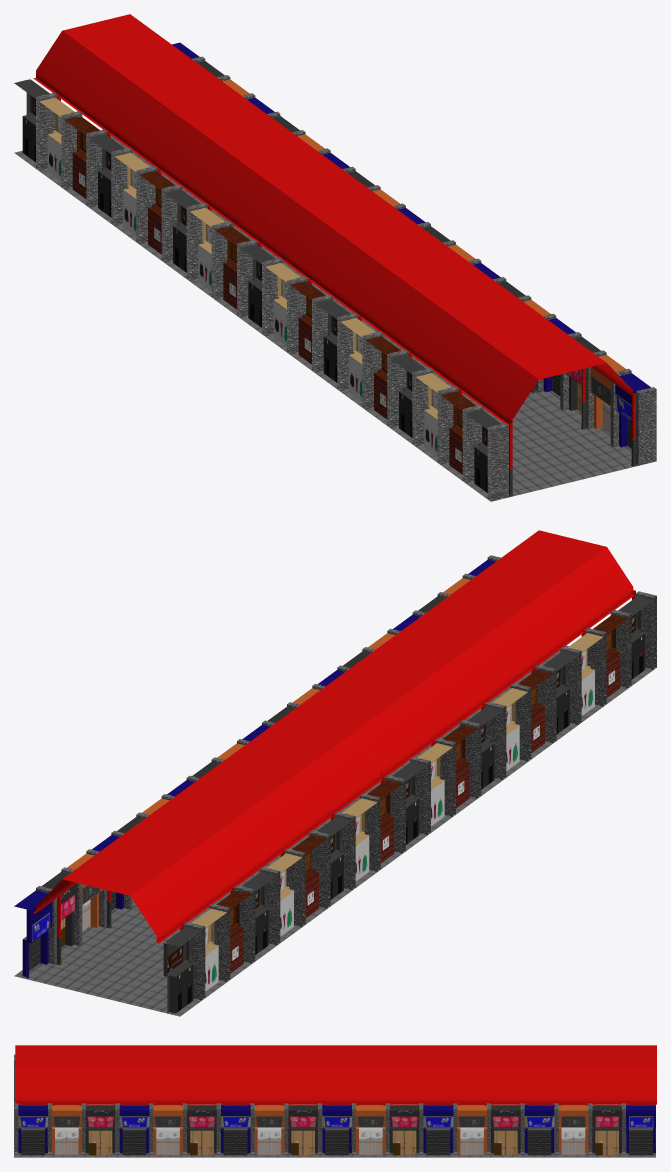
File: conect_9.fbx
The picture shows the model from 3 angles, top to bottom: view 1: azimuth 30°, elevation 25°; view 2: azimuth 150°, elevation 25°; view 3: azimuth 270°, elevation 25°; orthographic projection. The views are drawn at different scales.
Parts seen in each view (by area): view 1: Torii, Ground1, RightPillar36, LeftPillar36, LeftBuilding41, RightBuilding31, RightBuilding20, RightBuilding30, LeftBuilding42, RightPillar35, RightBuilding21, RightBuilding22 (+32 smaller); view 2: Torii, Ground1, RightBuilding0, LeftBuilding0, RightBuilding26, RightBuilding25, RightBuilding35, RightBuilding36, RightPillar30, RightBuilding24, RightBuilding33, RightBuilding21 (+31 smaller); view 3: Torii, Ground1, LeftBuilding30, LeftBuilding26, LeftBuilding27, LeftBuilding31, LeftBuilding35, LeftBuilding39, LeftBuilding40, LeftBuilding36, LeftBuilding0, LeftBuilding25 (+28 smaller).
Boxes of the visible parts, x1,y1,x2,y2 form: Torii: [33, 14, 636, 496]; Ground1: [14, 135, 654, 501]; RightPillar36: [487, 423, 508, 501]; LeftPillar36: [635, 387, 656, 465]; LeftBuilding41: [590, 355, 625, 433]; RightBuilding31: [340, 318, 375, 400]; RightBuilding20: [64, 116, 99, 198]; RightBuilding30: [315, 299, 350, 382]; LeftBuilding42: [615, 373, 650, 448]; RightPillar35: [462, 405, 483, 483]; RightBuilding21: [89, 134, 124, 217]; RightBuilding22: [114, 152, 149, 235]; Torii: [33, 530, 635, 965]; Ground1: [14, 645, 656, 1016]; RightBuilding0: [163, 927, 201, 1013]; LeftBuilding0: [14, 890, 52, 978]; RightBuilding26: [367, 780, 402, 863]; RightBuilding25: [342, 798, 377, 881]; RightBuilding35: [593, 614, 628, 697]; RightBuilding36: [618, 596, 653, 679]; RightPillar30: [485, 701, 506, 779]; RightBuilding24: [317, 816, 352, 899]; RightBuilding33: [543, 651, 577, 734]; RightBuilding21: [241, 871, 276, 954]; Torii: [15, 1045, 656, 1104]; Ground1: [14, 1105, 655, 1157]; LeftBuilding30: [423, 1105, 453, 1155]; LeftBuilding26: [558, 1105, 588, 1155]; LeftBuilding27: [524, 1105, 554, 1155]; LeftBuilding31: [389, 1105, 419, 1155]; LeftBuilding35: [254, 1105, 284, 1155]; LeftBuilding39: [119, 1105, 149, 1155]; LeftBuilding40: [85, 1105, 115, 1155]; LeftBuilding36: [221, 1105, 250, 1155]; LeftBuilding0: [626, 1105, 655, 1155]; LeftBuilding25: [592, 1105, 621, 1155].
Size of the model in its own units: 41.58 by 26.19 by 207.
1 material, 1 textured.
